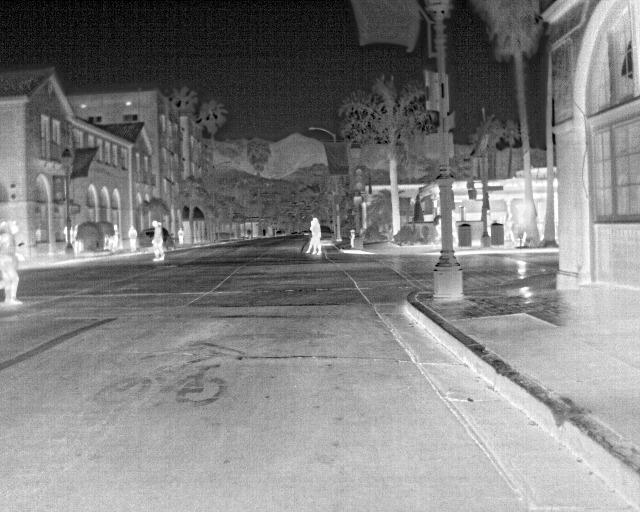bicycle: (319, 223, 336, 247), (138, 228, 152, 250), (164, 227, 176, 250)
empty: (0, 220, 22, 308), (309, 217, 324, 257), (152, 221, 166, 263), (125, 224, 139, 254)
